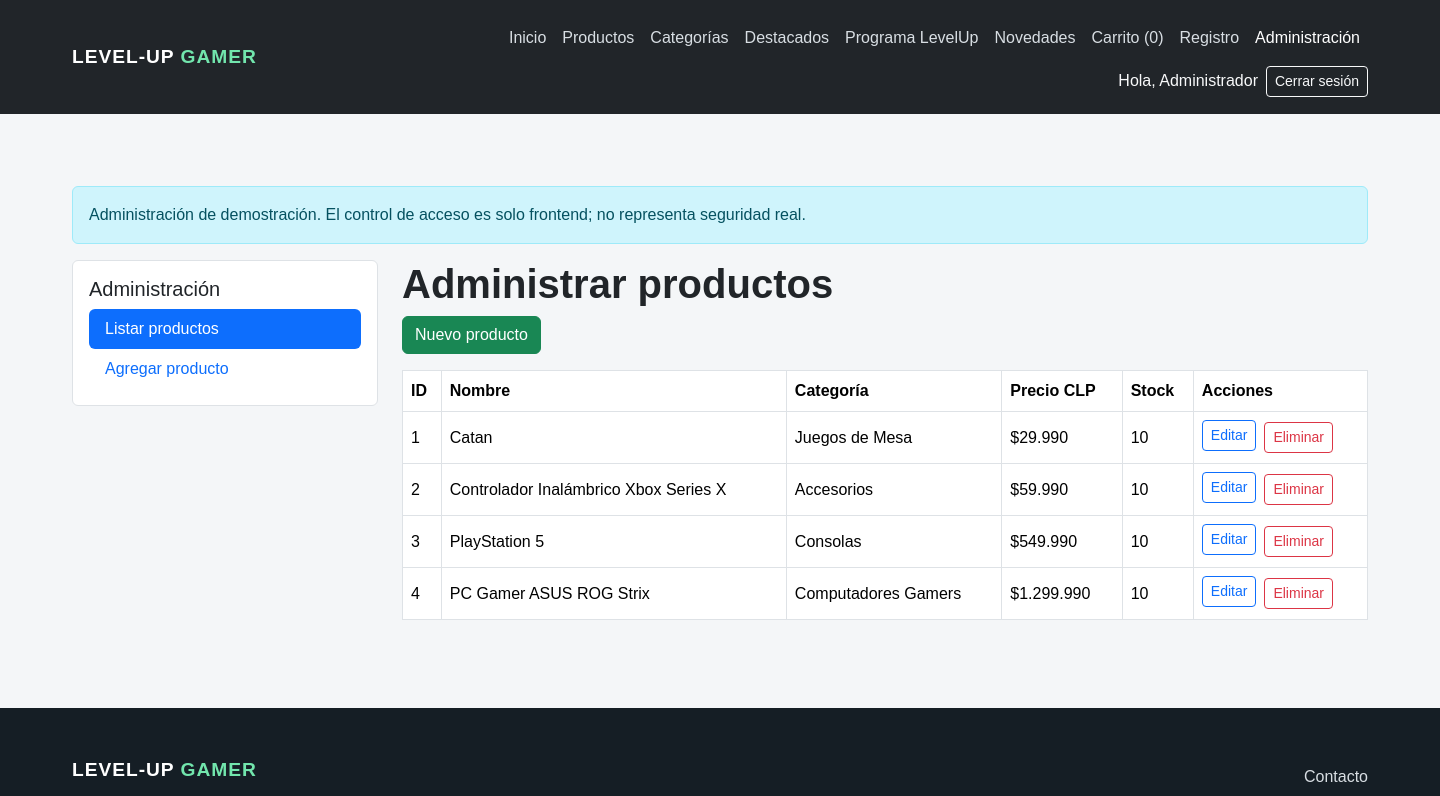
Test: cerrar sesión retira acceso administrativo inmediatamente
What coordinates should you click on to do the following:
click the button "Cerrar sesión"
I would click on:
 (1317, 81)
Its box is top-left (1266, 66), bottom-right (1368, 97).
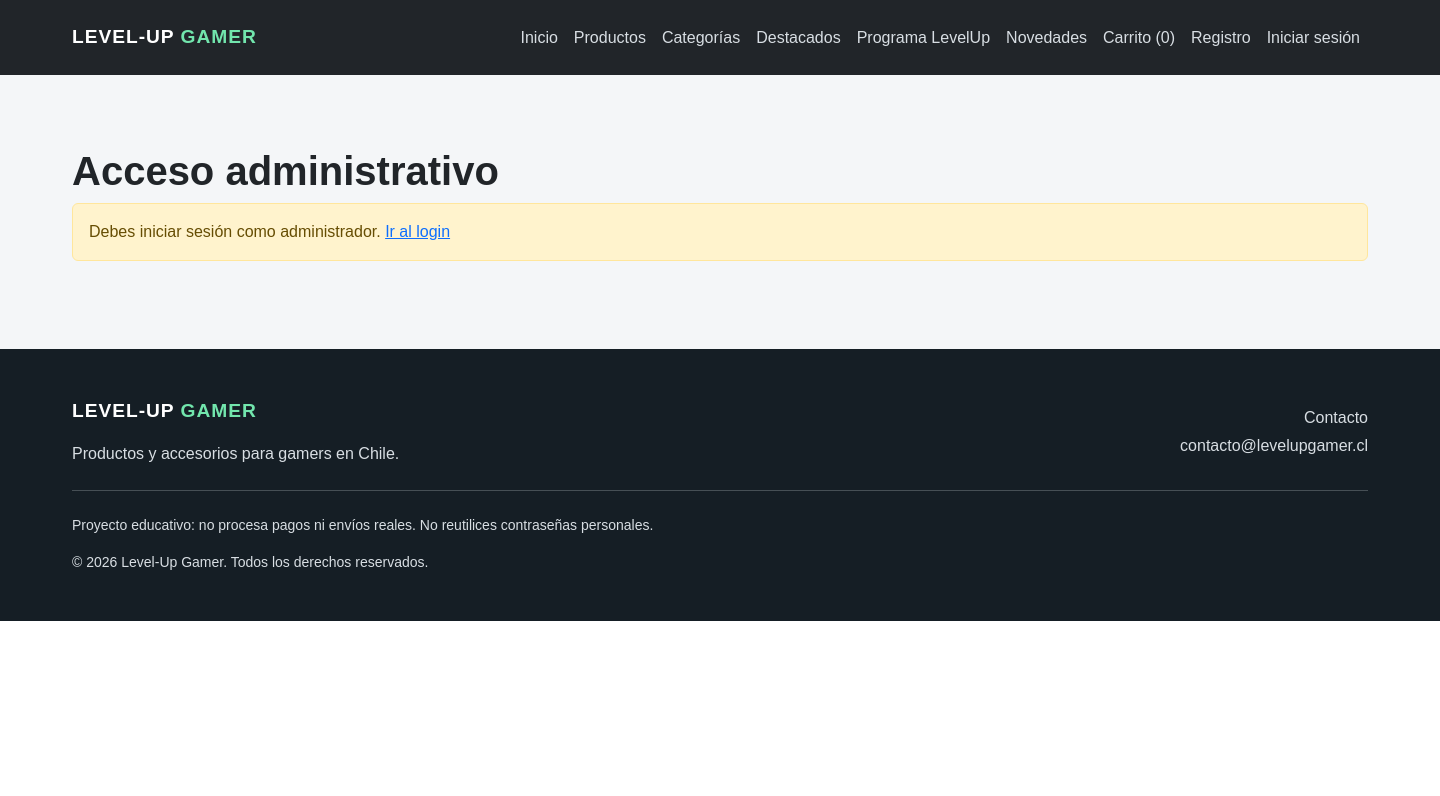
Expected: the text "Debes iniciar sesión como administrador. Ir al login" is shown, top-left (72, 203), bottom-right (1368, 261)
